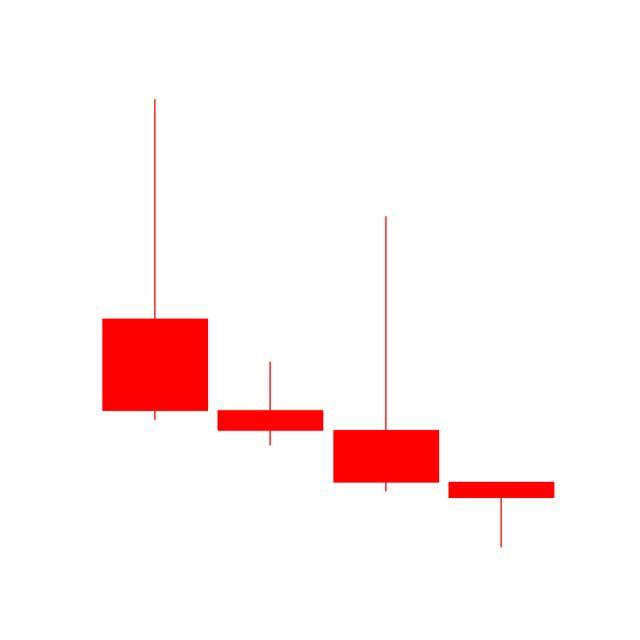Hammer: (444, 480, 560, 549)
